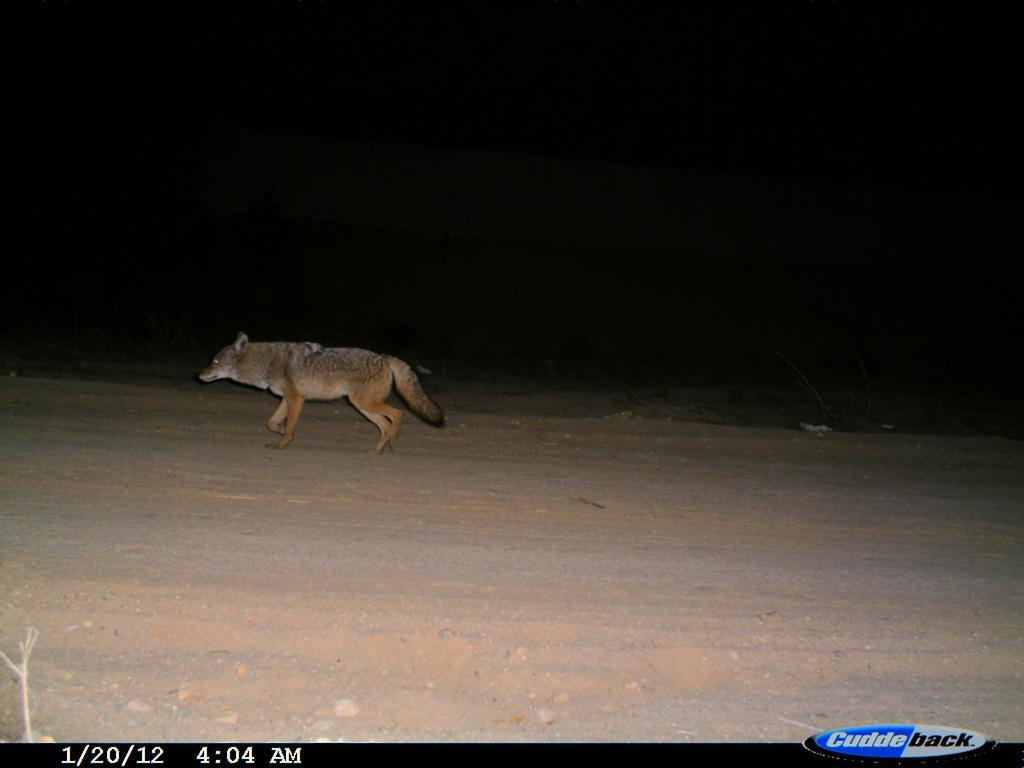coyote: (193, 321, 457, 474)
